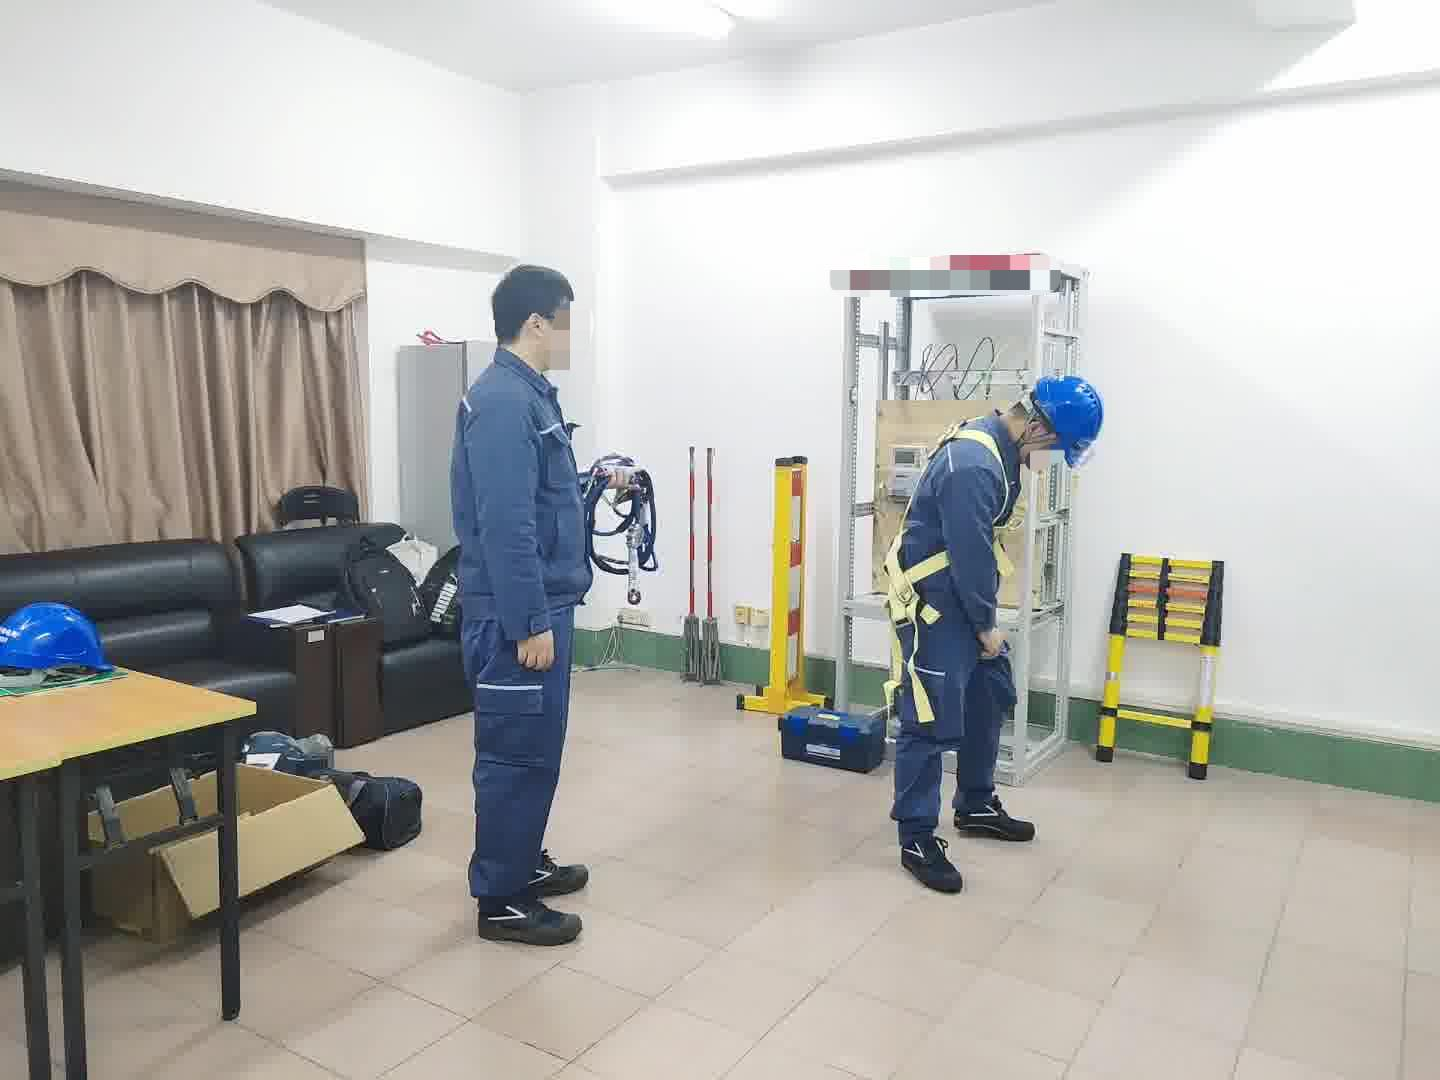halt: (1032, 376, 1109, 474)
inear: (1019, 420, 1057, 459)
noear: (520, 311, 554, 353)
unhalt: (489, 265, 584, 369)
